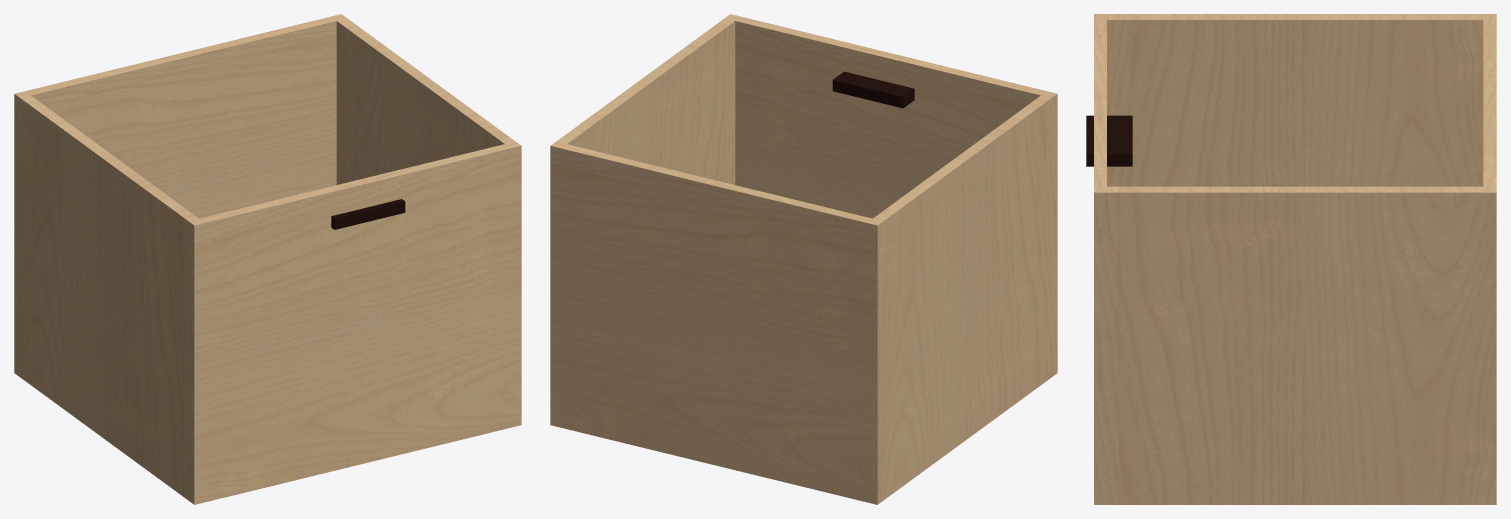
The model's file is big drawer textured.FBX.
3 views of the same model, side by side, from view 1: azimuth 30°, elevation 25°; view 2: azimuth 150°, elevation 25°; view 3: azimuth 270°, elevation 25° (orthographic). The views are drawn at different scales.
Visible parts, largest first — view 1: Box006, Box007; view 2: Box006, Box007; view 3: Box006, Box007.
Boxes of the visible parts, <box> form: Box006: <box>14,14,521,504</box>; Box007: <box>331,199,405,229</box>; Box006: <box>550,14,1057,504</box>; Box007: <box>832,71,914,108</box>; Box006: <box>1094,14,1496,504</box>; Box007: <box>1086,115,1132,166</box>.
Size of the model in its own units: 241 by 197 by 234.
2 materials, 1 textured.
